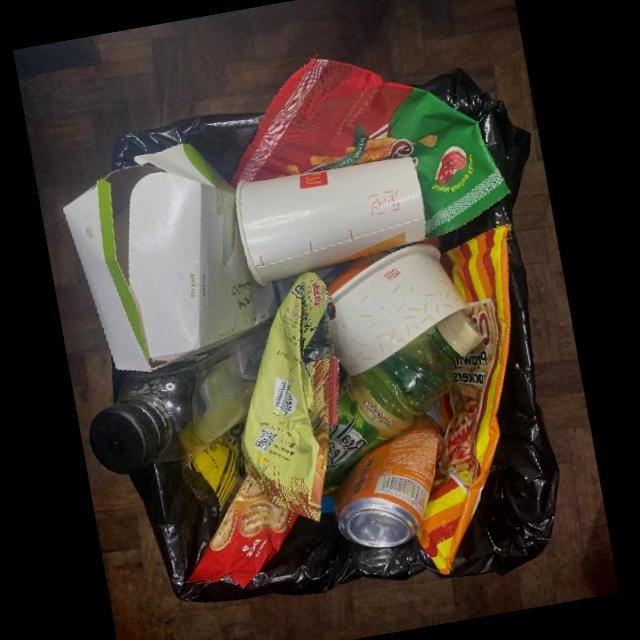bao_bi_thuc_pham: (228, 54, 510, 240), (417, 222, 511, 574), (240, 270, 338, 522), (186, 473, 299, 588), (182, 418, 247, 529)
carton: (63, 143, 280, 372)
chai_nhua: (89, 314, 276, 474), (322, 309, 484, 492)
nhom: (334, 416, 445, 547)
